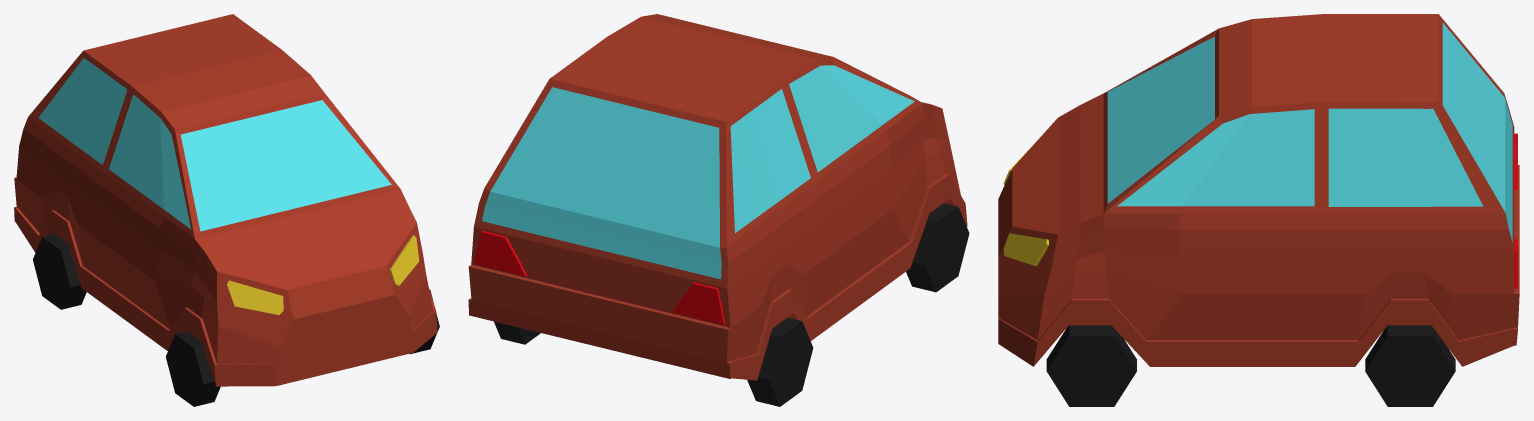
Rendered from NPCCars1.fbx.
The picture shows the model from 3 angles, left to right: view 1: azimuth 30°, elevation 25°; view 2: azimuth 150°, elevation 25°; view 3: azimuth 270°, elevation 25°; orthographic projection. The views are drawn at different scales.
Parts seen in each view (by area): view 1: Cube.009, Cylinder.006, Cylinder.007, Cube.010; view 2: Cube.009, Cylinder.007, Cylinder.006, Cube.011; view 3: Cube.009, Cylinder.007, Cylinder.006, Cube.010.
Boxes of the visible parts, x1,y1,x2,y2 form: Cube.009: [14, 14, 437, 386]; Cylinder.006: [166, 289, 439, 406]; Cylinder.007: [33, 234, 86, 309]; Cube.010: [227, 235, 419, 314]; Cube.009: [468, 14, 967, 380]; Cylinder.007: [494, 317, 813, 406]; Cylinder.006: [906, 203, 969, 292]; Cube.011: [474, 231, 725, 324]; Cube.009: [998, 14, 1519, 366]; Cylinder.007: [1365, 325, 1455, 406]; Cylinder.006: [1046, 325, 1136, 406]; Cube.010: [1003, 149, 1048, 265].
Bounding box in the file's own units: 230 × 217 × 366.
